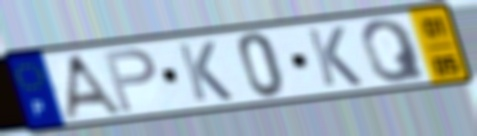0: (236, 30, 292, 101)
A: (60, 52, 126, 122)
K: (303, 25, 366, 90), (174, 39, 237, 104)
P: (100, 46, 159, 115)
Q: (358, 17, 430, 85)
